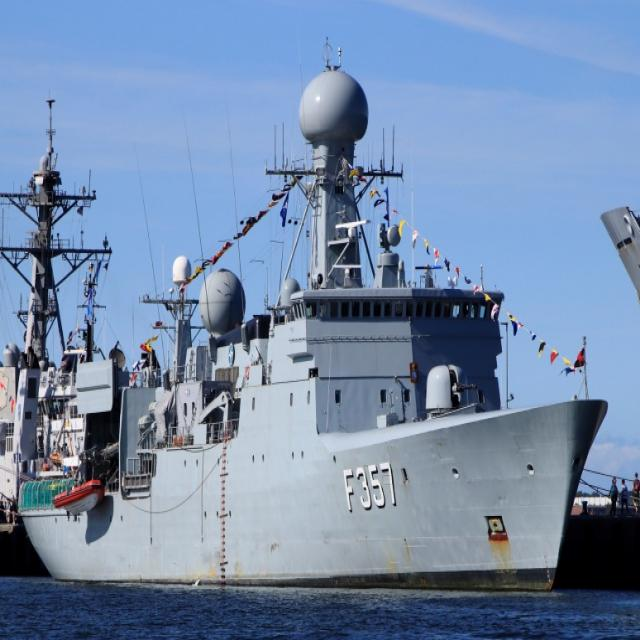Fragata: (10, 48, 608, 600)
